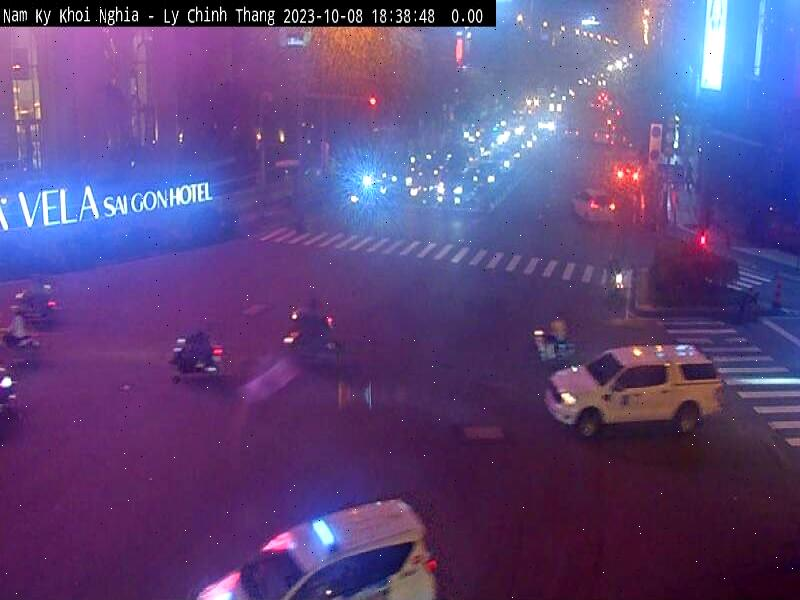car: (191, 492, 439, 600), (536, 345, 733, 439)
